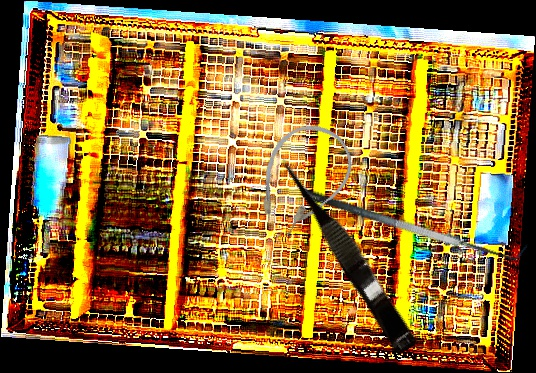Cannula: (238, 110, 365, 249)
Micro Scissor: (273, 148, 424, 357)
Spatula Surgical: (300, 169, 528, 273)
